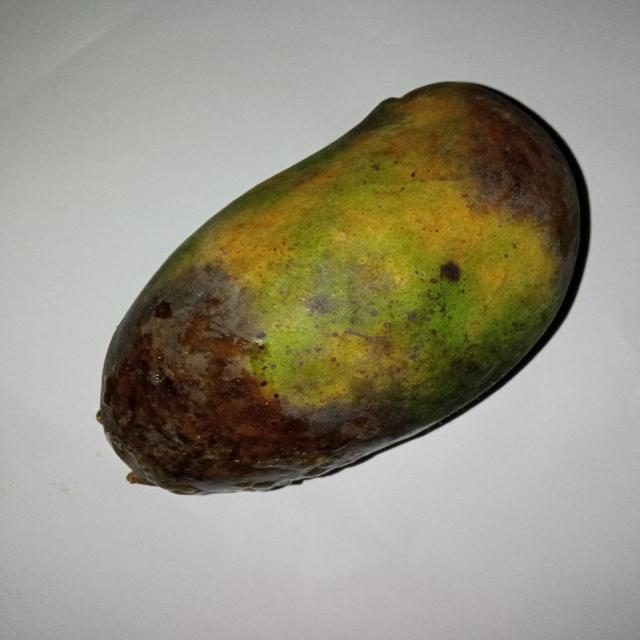rotten_mango: (97, 84, 579, 494)
